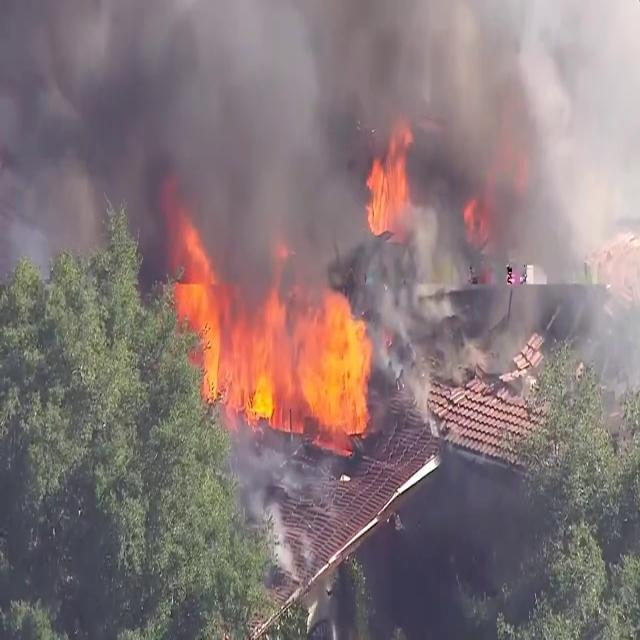Fire: (166, 250, 380, 441), (362, 118, 416, 240)
Smoke: (3, 0, 631, 350)
